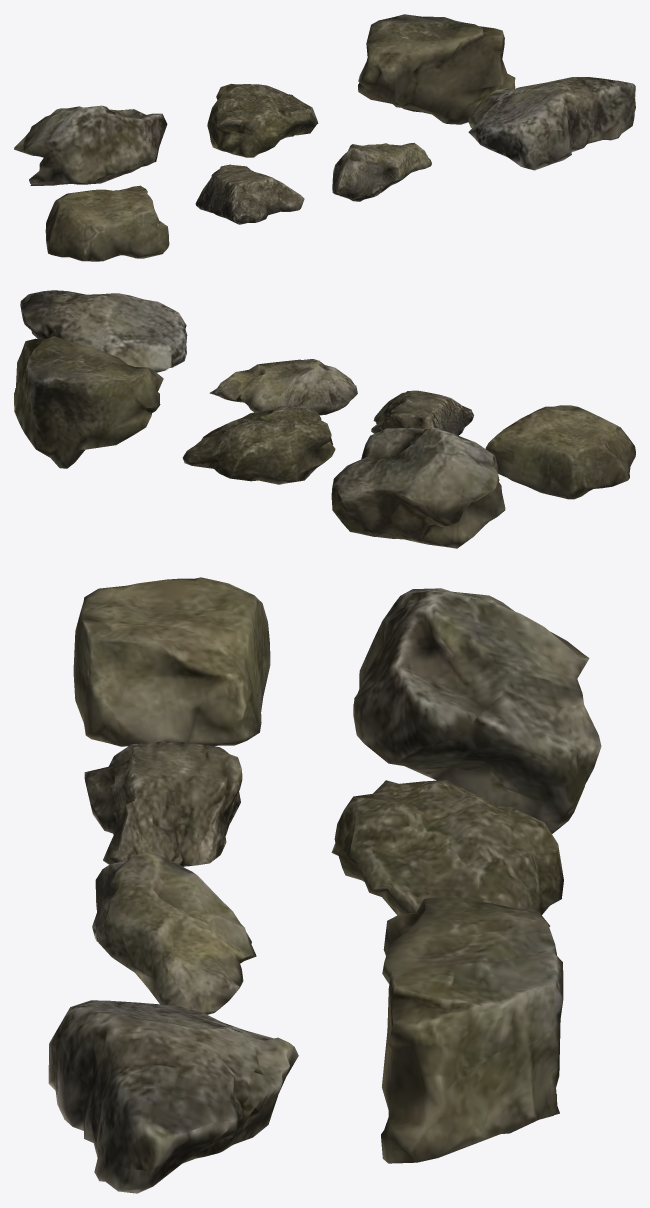
Rendered from rocks_moss_02.glb.
3 views of the same model, one above another, from view 1: azimuth 30°, elevation 25°; view 2: azimuth 150°, elevation 25°; view 3: azimuth 270°, elevation 25° (orthographic). The views are drawn at different scales.
Visible parts, largest first — view 1: rock_moss_set_02_rock13, rock_moss_set_02_rock10, rock_moss_set_02_rock11, rock_moss_set_02_rock07, rock_moss_set_02_rock12, rock_moss_set_02_rock08, rock_moss_set_02_rock09; view 2: rock_moss_set_02_rock11, rock_moss_set_02_rock13, rock_moss_set_02_rock07, rock_moss_set_02_rock10, rock_moss_set_02_rock12, rock_moss_set_02_rock09, rock_moss_set_02_rock08; view 3: rock_moss_set_02_rock11, rock_moss_set_02_rock13, rock_moss_set_02_rock10, rock_moss_set_02_rock07, rock_moss_set_02_rock12, rock_moss_set_02_rock09, rock_moss_set_02_rock08.
Part boxes in pixels (x1,y1,x2,y2): rock_moss_set_02_rock13: [358, 14, 515, 124]; rock_moss_set_02_rock10: [468, 77, 635, 170]; rock_moss_set_02_rock11: [14, 105, 167, 185]; rock_moss_set_02_rock07: [45, 185, 169, 261]; rock_moss_set_02_rock12: [207, 83, 318, 157]; rock_moss_set_02_rock08: [195, 164, 304, 224]; rock_moss_set_02_rock09: [332, 142, 431, 201]; rock_moss_set_02_rock11: [331, 427, 505, 548]; rock_moss_set_02_rock13: [14, 336, 163, 468]; rock_moss_set_02_rock07: [485, 405, 635, 499]; rock_moss_set_02_rock10: [20, 290, 187, 372]; rock_moss_set_02_rock12: [182, 406, 335, 484]; rock_moss_set_02_rock09: [210, 359, 357, 415]; rock_moss_set_02_rock08: [371, 390, 473, 435]; rock_moss_set_02_rock11: [353, 588, 601, 833]; rock_moss_set_02_rock13: [381, 895, 563, 1163]; rock_moss_set_02_rock10: [48, 1000, 298, 1193]; rock_moss_set_02_rock07: [73, 577, 270, 746]; rock_moss_set_02_rock12: [331, 780, 563, 926]; rock_moss_set_02_rock09: [92, 852, 256, 1014]; rock_moss_set_02_rock08: [84, 741, 242, 866].
Size of the model in its own units: 8.28 by 1.35 by 3.4.
1 material, 1 textured.
